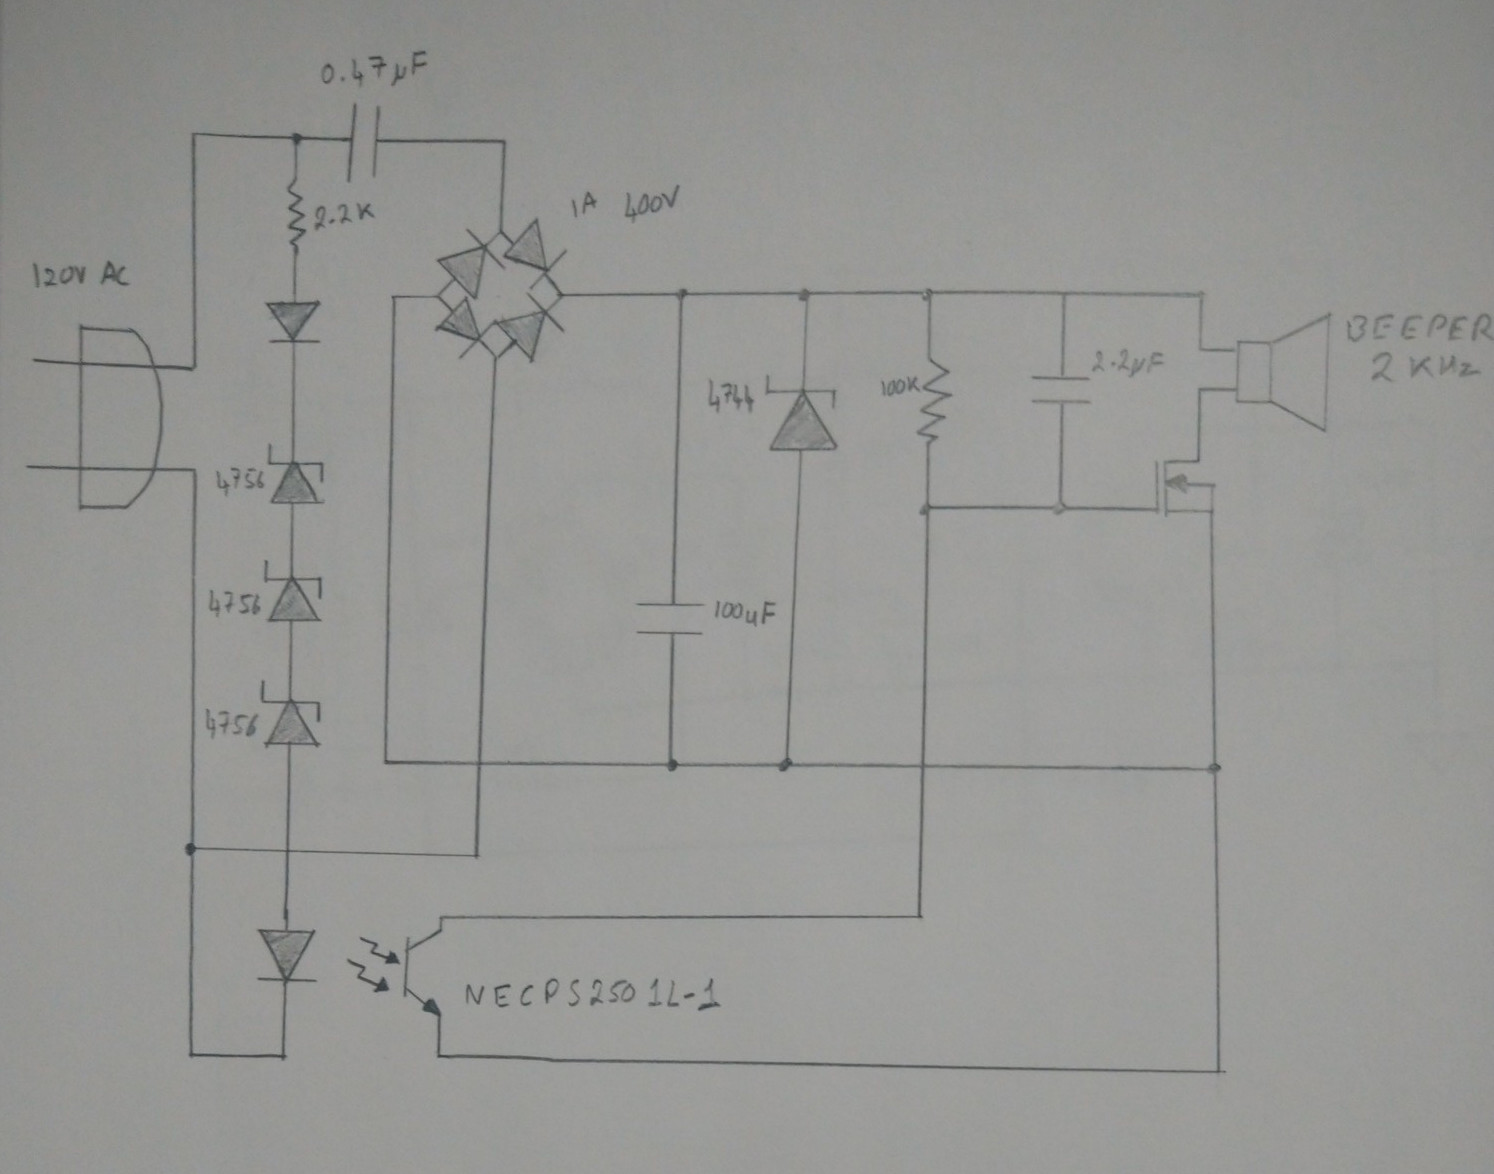capacitor.unpolarized: (336, 99, 397, 186), (631, 592, 709, 648), (1026, 366, 1093, 417)
crossover: (914, 758, 933, 774), (279, 844, 296, 860), (472, 756, 487, 773)
diode: (763, 372, 843, 454), (437, 228, 503, 300), (258, 678, 324, 750), (503, 218, 566, 289), (498, 293, 563, 361), (261, 558, 325, 625), (266, 443, 325, 506), (438, 298, 494, 358), (262, 300, 325, 346)
junction: (1047, 497, 1074, 522), (1203, 756, 1228, 780), (285, 127, 309, 152), (916, 498, 939, 522), (181, 838, 203, 861), (774, 754, 797, 775), (660, 756, 682, 776), (793, 286, 816, 306), (672, 284, 691, 304), (186, 357, 206, 376), (1192, 287, 1215, 304), (918, 284, 936, 304), (186, 462, 205, 480), (909, 907, 928, 924), (186, 129, 207, 142), (1211, 1062, 1228, 1079), (1056, 286, 1072, 304), (432, 1047, 447, 1065), (487, 352, 504, 367), (274, 1047, 291, 1062), (549, 287, 568, 302), (467, 848, 483, 864), (1194, 342, 1209, 357), (432, 290, 446, 304), (432, 911, 447, 924), (184, 1047, 198, 1062), (497, 133, 511, 147), (378, 754, 392, 768), (1194, 384, 1208, 397), (386, 291, 399, 302), (494, 226, 506, 236)
optocoupler: (252, 924, 451, 1024)
resistor: (916, 354, 954, 445), (283, 173, 308, 252)
socket: (75, 323, 166, 513)
speaker: (1230, 309, 1340, 439)
terminal: (19, 460, 39, 475), (27, 354, 46, 369)
text: (460, 976, 724, 1014), (1344, 309, 1494, 346), (317, 49, 430, 92), (1368, 349, 1486, 389), (25, 257, 135, 293), (618, 182, 688, 226), (1089, 344, 1167, 378), (709, 597, 779, 628), (703, 377, 757, 417), (201, 707, 261, 742), (313, 203, 378, 230), (207, 588, 263, 619), (212, 466, 266, 496), (878, 374, 920, 399), (564, 189, 600, 218)
transistor: (1150, 451, 1227, 526)
